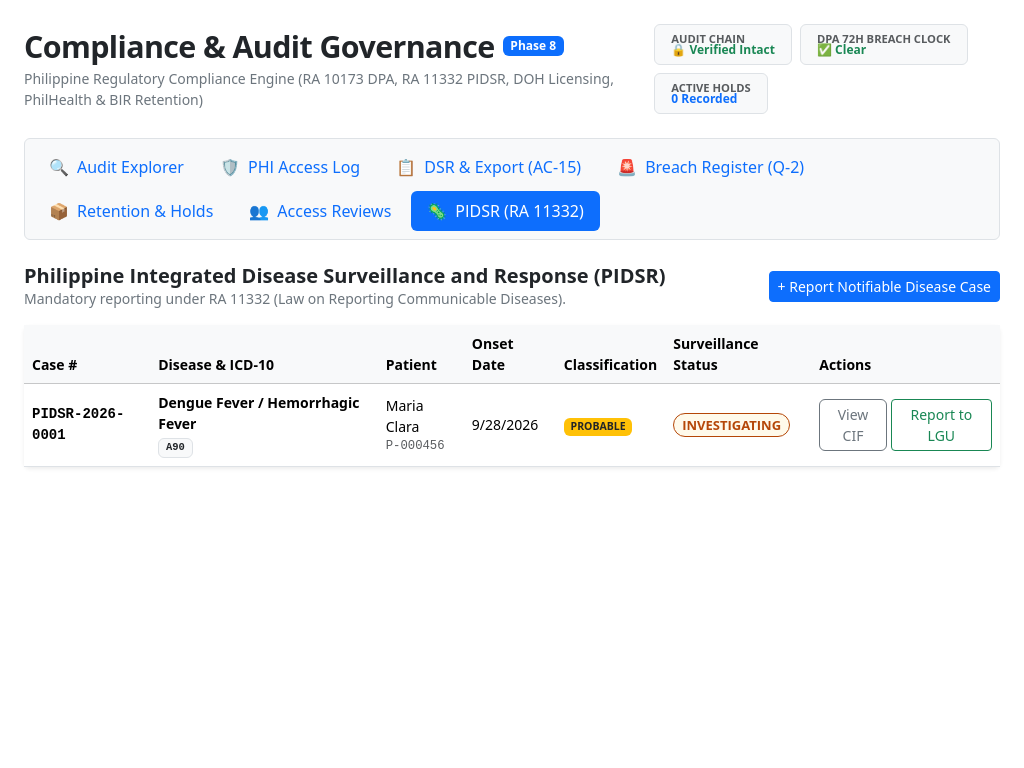
CompliancePage (Phase 8 — Compliance, audit, consent, DSR, retention) › 8.4 PIDSR Notifiable Diseases (RA 11332, Q-16): renders surveillance cases and CIF modal
The width and height of the screenshot is (1024, 768).
Check: the text "PIDSR-2026-0001" is shown, box [24,384,150,466]
Check: the text "Dengue Fever / Hemorrhagic Fever" is shown, box [158,392,370,434]
Note: Click View CIF button
Step 1. Click the button "View CIF" → (853, 425), box [819,399,887,451]
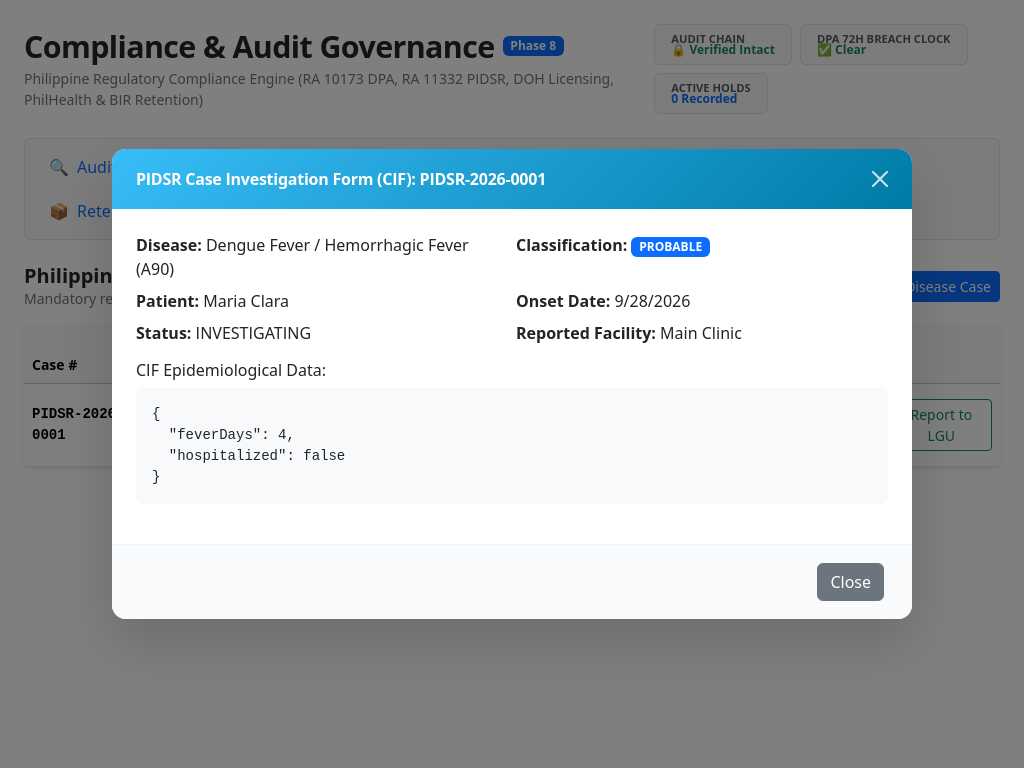
Check: the text "PIDSR Case Investigation Form (CIF): PIDSR-2026-0001" is shown, box [136,167,546,191]
Check: the text "{ \"feverDays\": 4, \"hospitalized\": false }" is shown, box [136,388,888,504]
